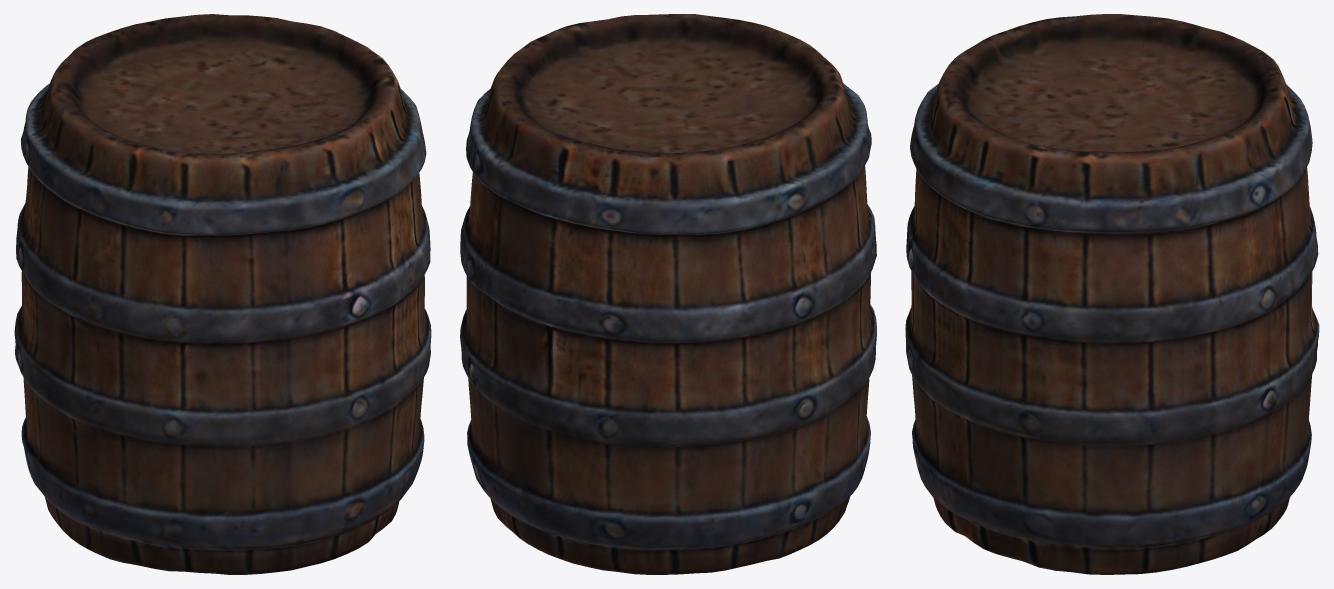
The model's file is c8762bb4a8a3_Barrels_and_Crates_.fbx.
The picture shows the model from 3 angles, left to right: view 1: azimuth 30°, elevation 25°; view 2: azimuth 150°, elevation 25°; view 3: azimuth 270°, elevation 25°; orthographic projection.
Visible parts, largest first — view 1: mesh; view 2: mesh; view 3: mesh.
Boxes of the visible parts, <box> form: mesh: <box>14,14,431,574</box>; mesh: <box>460,14,876,574</box>; mesh: <box>905,14,1319,574</box>.
Size of the model in its own units: 89.99 by 99.82 by 89.83.
